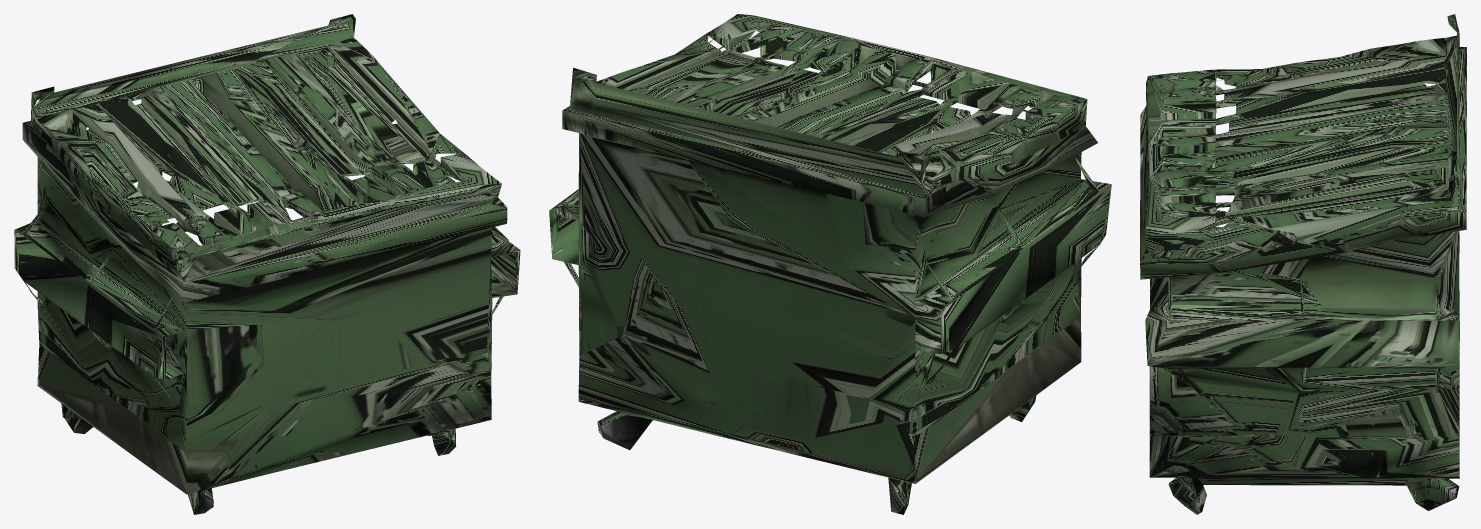
File: dumpster.glb
3 views of the same model, side by side, from view 1: azimuth 30°, elevation 25°; view 2: azimuth 150°, elevation 25°; view 3: azimuth 270°, elevation 25° (orthographic). The views are drawn at different scales.
Parts seen in each view (by area): view 1: dumpster; view 2: dumpster; view 3: dumpster.
Part boxes in pixels (x1=…): dumpster: x1=14, y1=14, x2=520, y2=514; dumpster: x1=549, y1=14, x2=1111, y2=514; dumpster: x1=1140, y1=14, x2=1466, y2=514.
Size of the model in its own units: 0.9987 by 0.9118 by 0.7628.
Materials: 1 (1 with a texture image).
